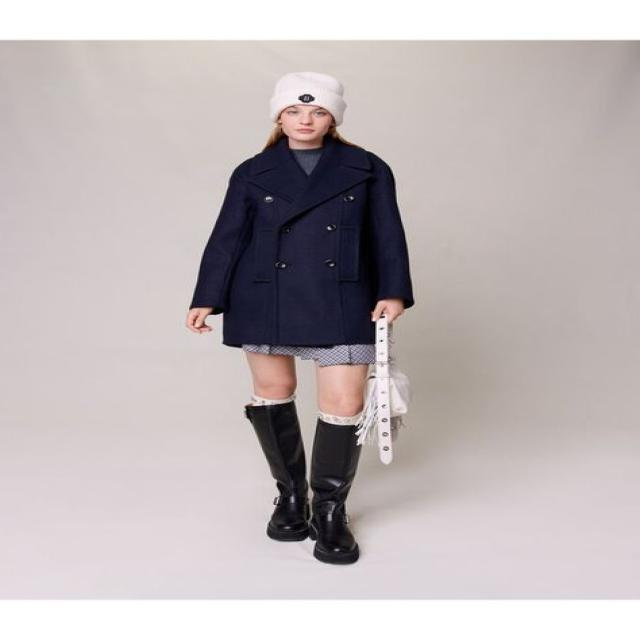coat: (188, 137, 416, 347)
skirt: (234, 336, 383, 367)
sweater: (286, 143, 330, 176)
